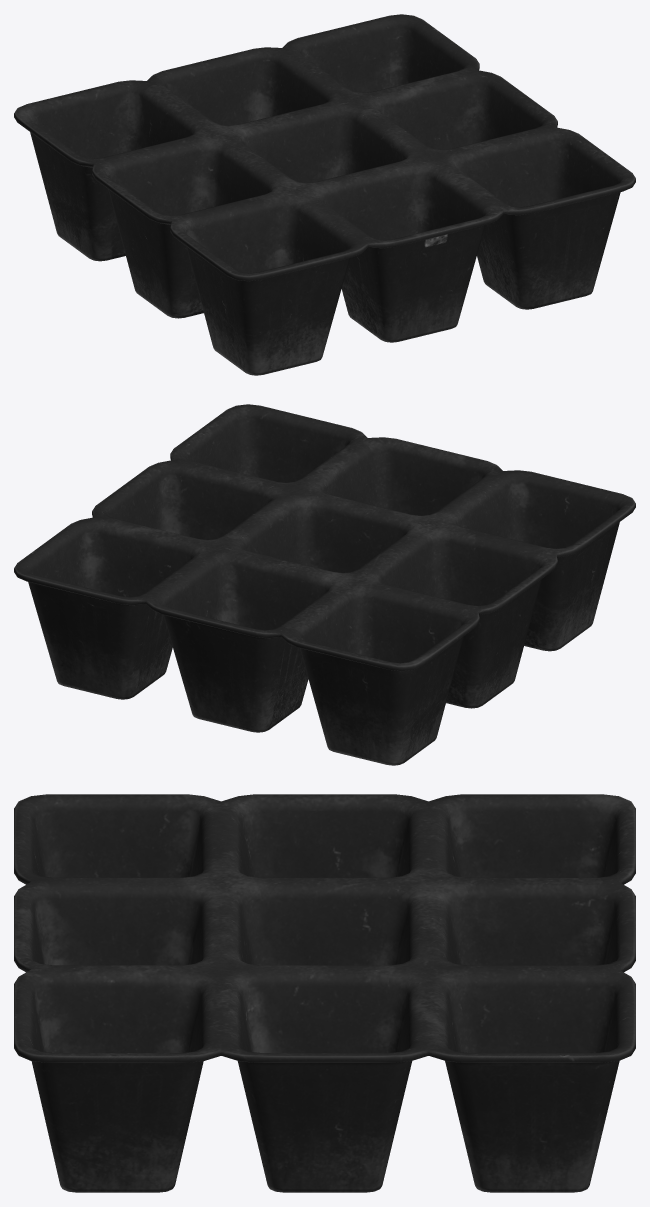
The model's file is seeding_tray_01_2k.gltf.
3 renders of one model, top to bottom at view 1: azimuth 30°, elevation 25°; view 2: azimuth 150°, elevation 25°; view 3: azimuth 270°, elevation 25°, orthographic. The views are drawn at different scales.
Visible parts, largest first — view 1: seeding_tray_01; view 2: seeding_tray_01; view 3: seeding_tray_01.
Part boxes in pixels (bbox=[...]): seeding_tray_01: bbox=[14, 14, 635, 375]; seeding_tray_01: bbox=[14, 404, 635, 765]; seeding_tray_01: bbox=[14, 794, 635, 1192].
Bounding box in the file's own units: 0.2202 × 0.0608 × 0.2202.
Materials: 1 (1 with a texture image).
